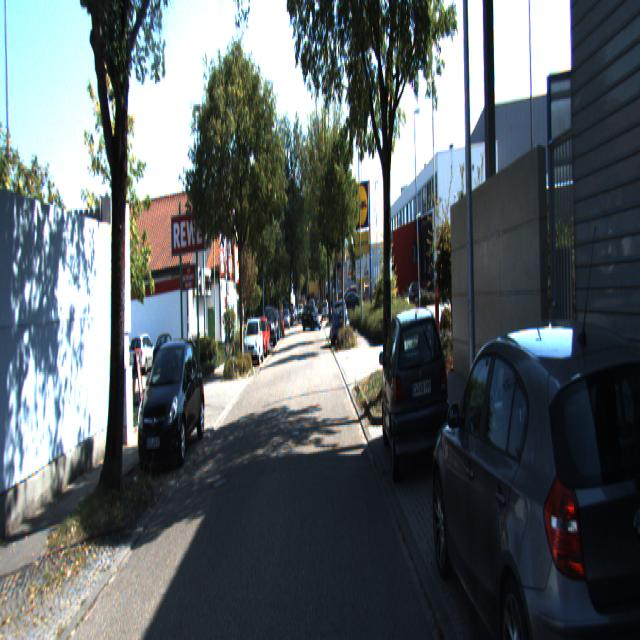Car: (428, 311, 640, 638), (380, 300, 452, 478), (136, 331, 206, 471), (129, 332, 160, 378), (153, 333, 180, 379), (244, 318, 264, 368), (331, 298, 349, 344), (253, 316, 271, 358)
